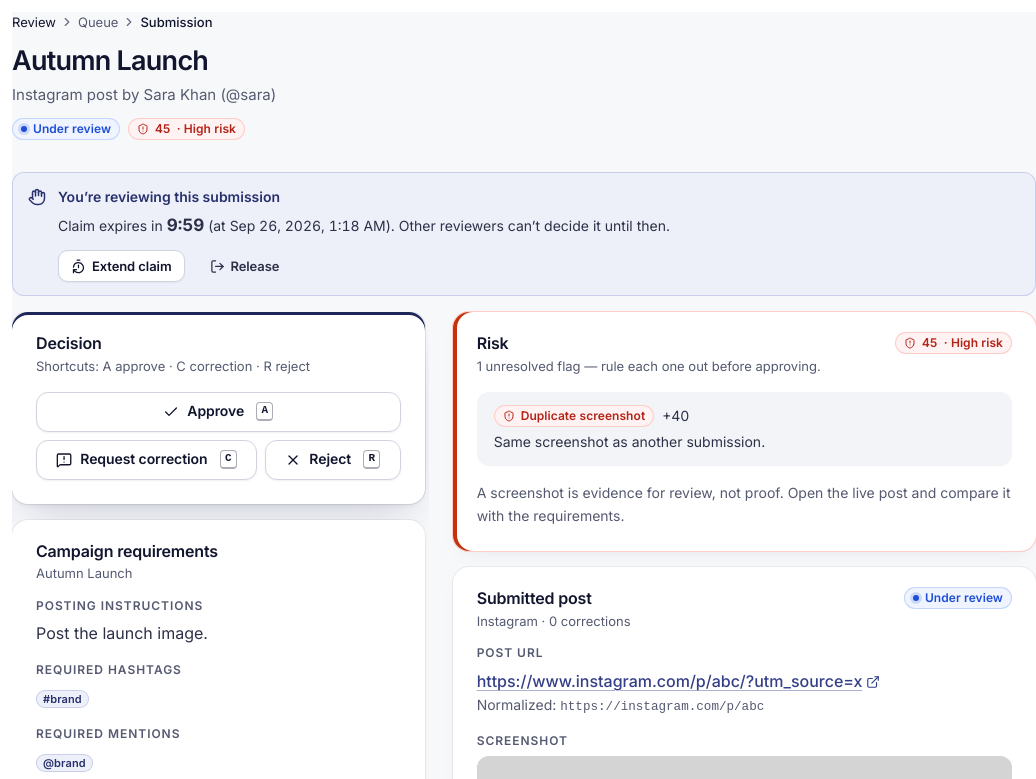
Test: WorkspacePage › maps a suspended participant error to a clear message
Click the button "Approve A" at (218, 412), box top-left (36, 392), bottom-right (401, 432)
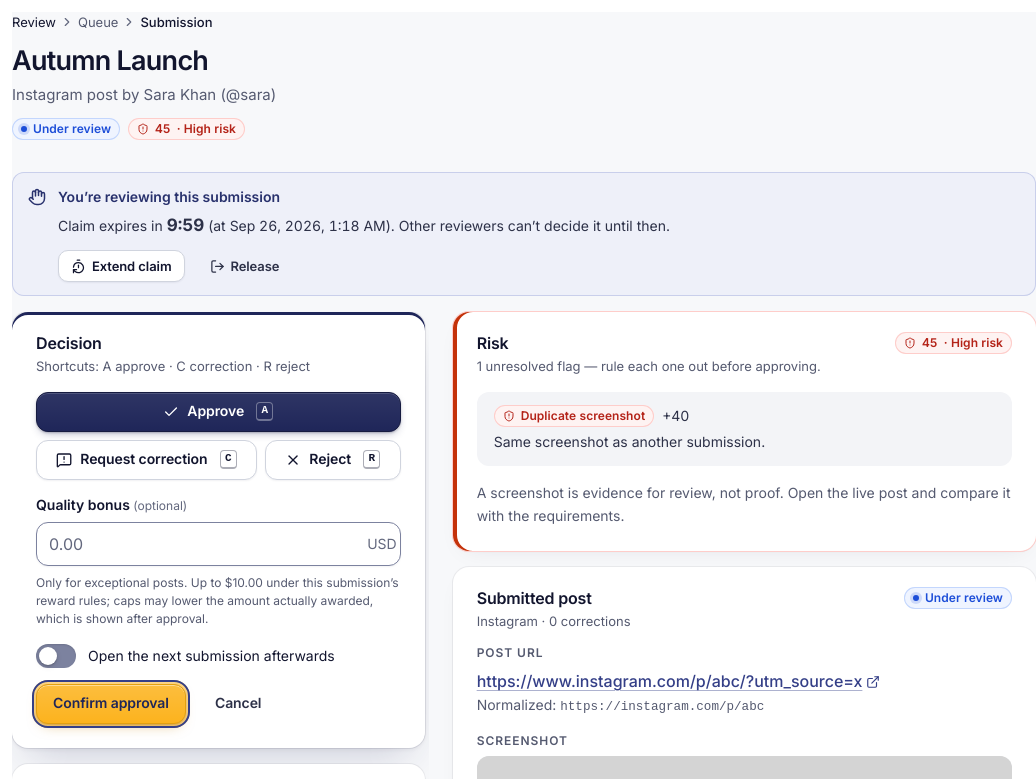
Click the button "Confirm approval" at (111, 704), box top-left (36, 684), bottom-right (186, 724)
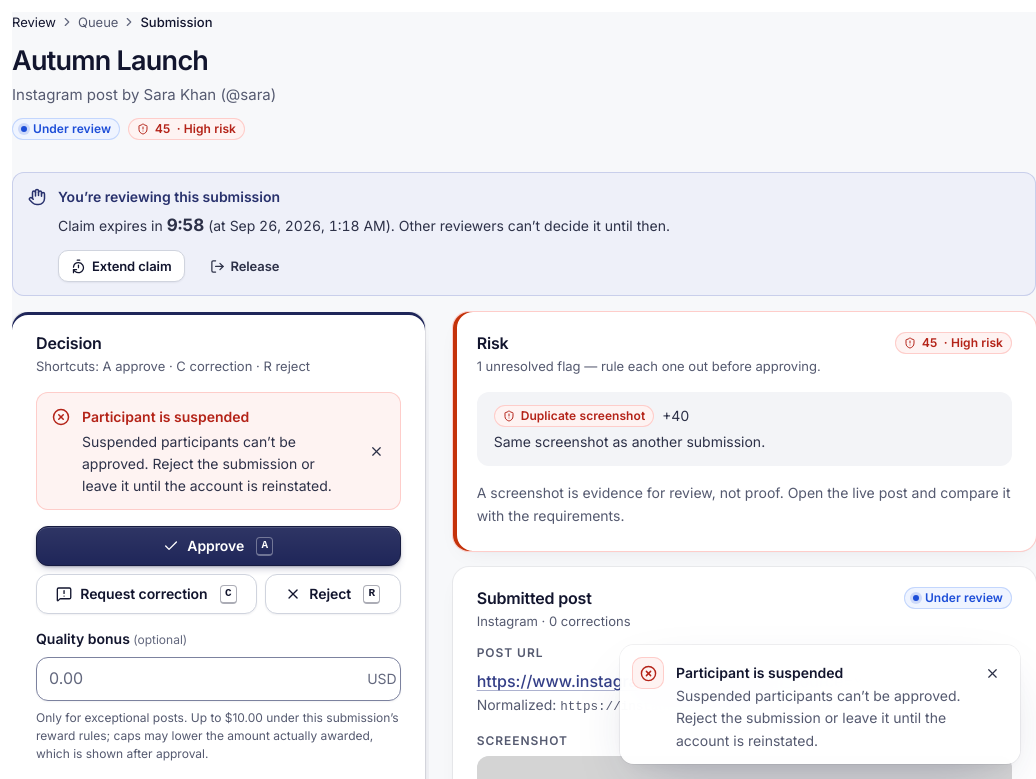
Now the message that starts with "Participant is suspended" shows "Suspended participants can’t be approved", box top-left (82, 433), bottom-right (332, 494)
